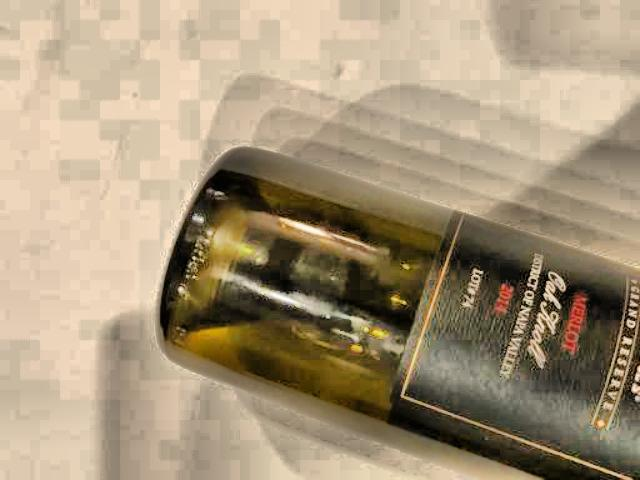Bottles: (142, 136, 640, 480)
